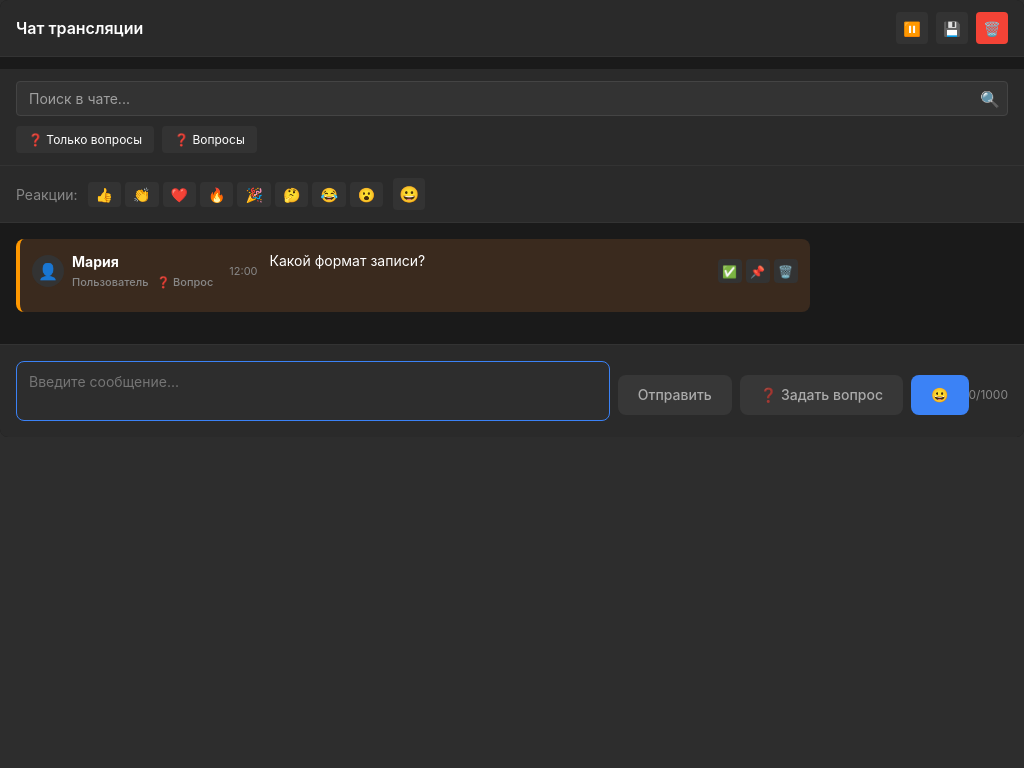
it: LiveChat › shows questions tab and statistics when questions exist
The image size is (1024, 768).
// Click on questions tab
Click the button "❓ Вопросы" at (209,140), box x1=162 y1=126 x2=257 y2=153
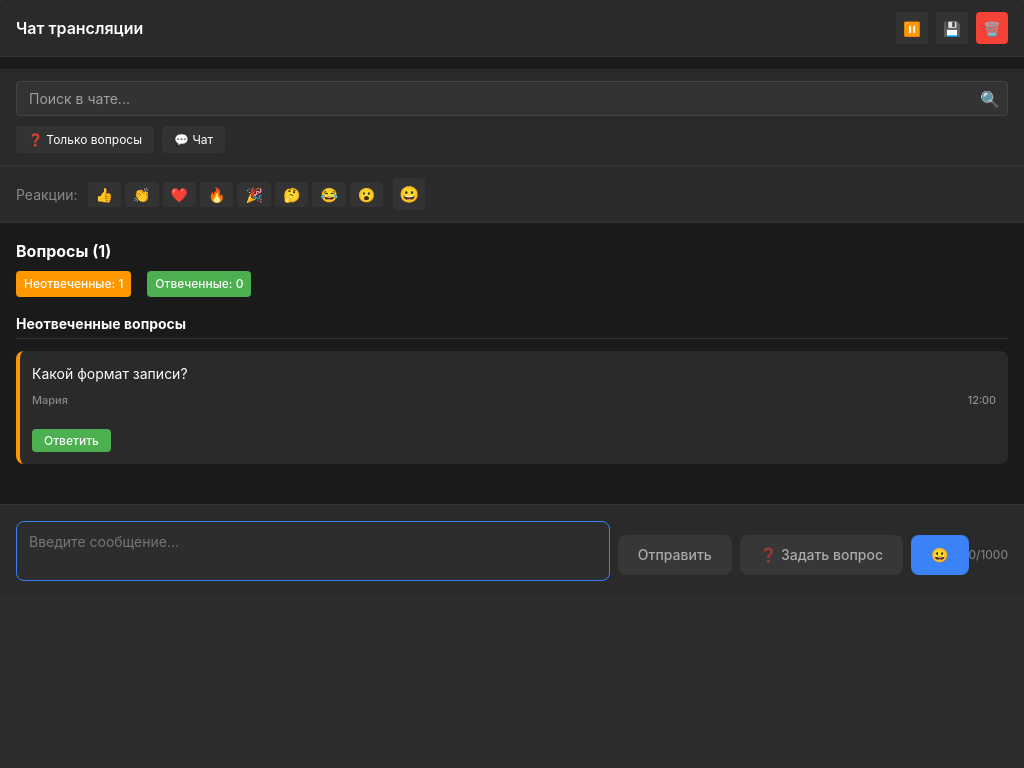
Expected: the heading "Вопросы (1)" is shown, x1=16 y1=241 x2=111 y2=261
Expected: the text "Неотвеченные: 1" is shown, x1=16 y1=271 x2=131 y2=297
